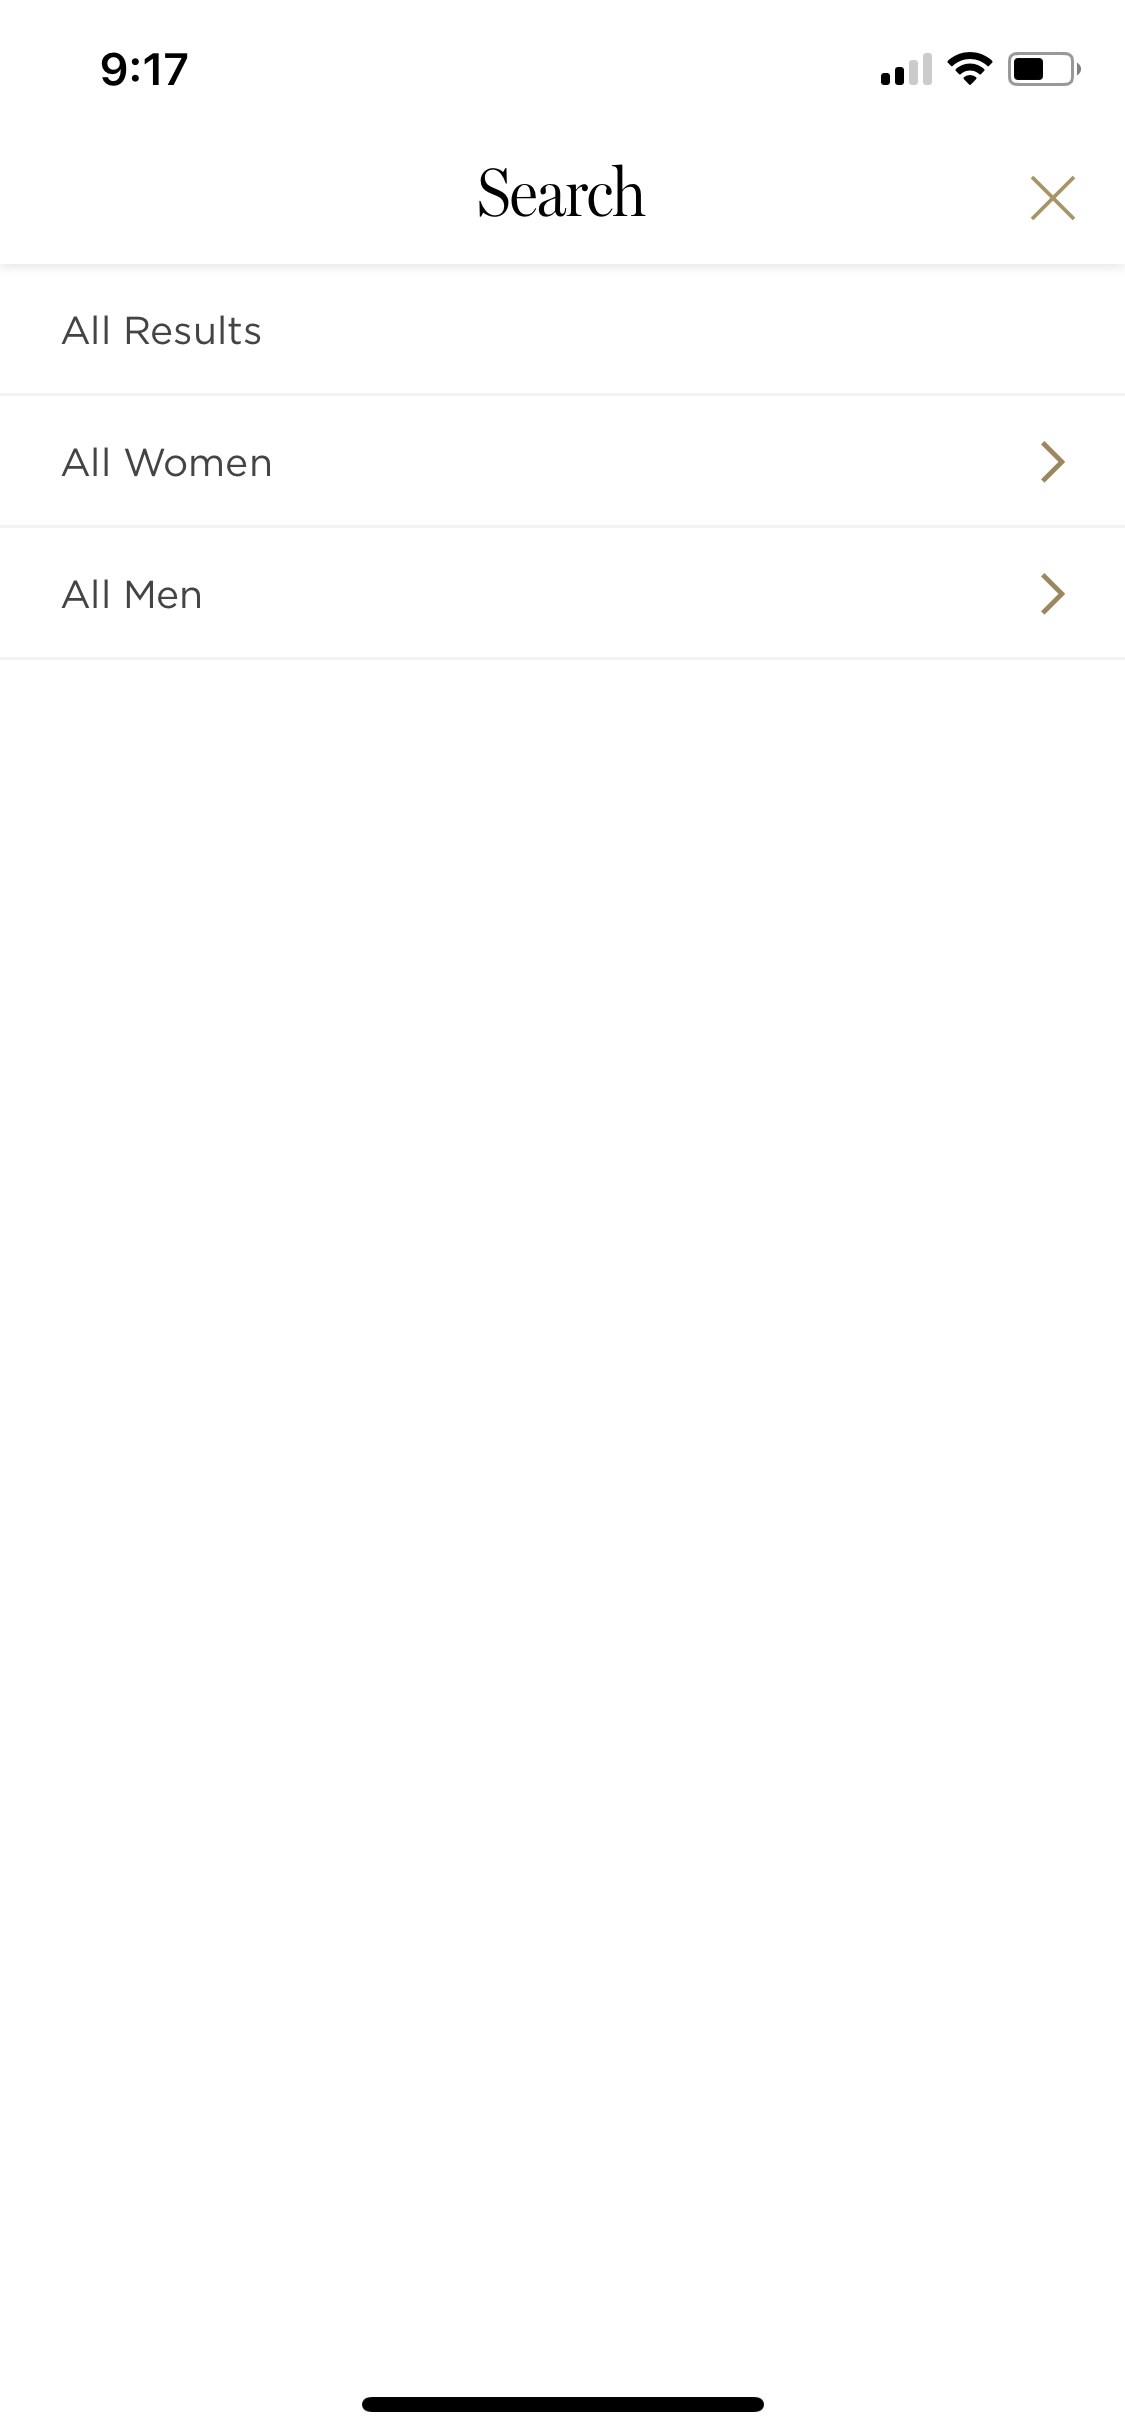Buttons: (988, 130, 1106, 255)
